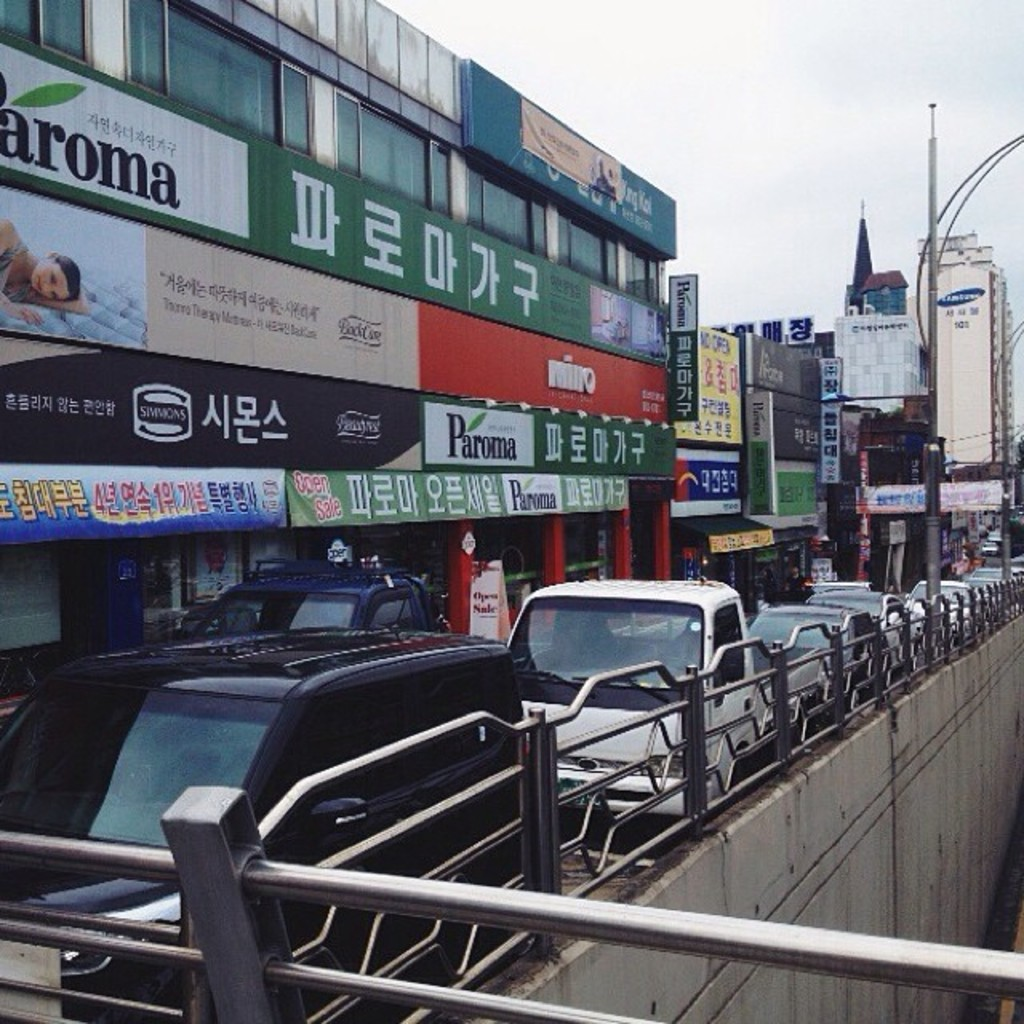Car: (32, 561, 544, 934), (747, 526, 1022, 723), (195, 568, 435, 635)
